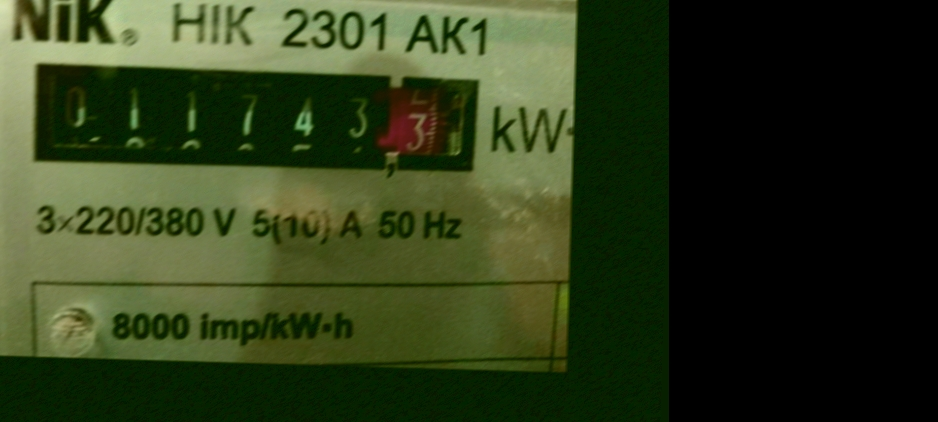0: (59, 80, 89, 128)
1: (179, 85, 201, 133), (124, 83, 142, 132)
3: (343, 92, 372, 139), (402, 107, 428, 152)
4: (289, 89, 318, 138)
7: (235, 88, 260, 137)
screen: (16, 51, 485, 183)
